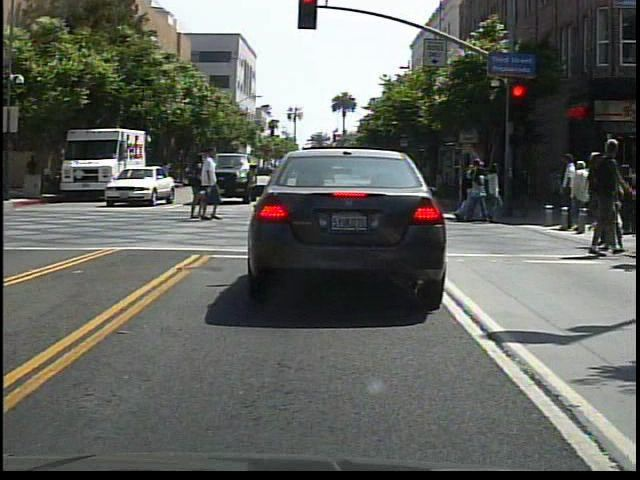person: (574, 136, 632, 258), (560, 156, 596, 238), (191, 151, 227, 228), (314, 155, 347, 216)
